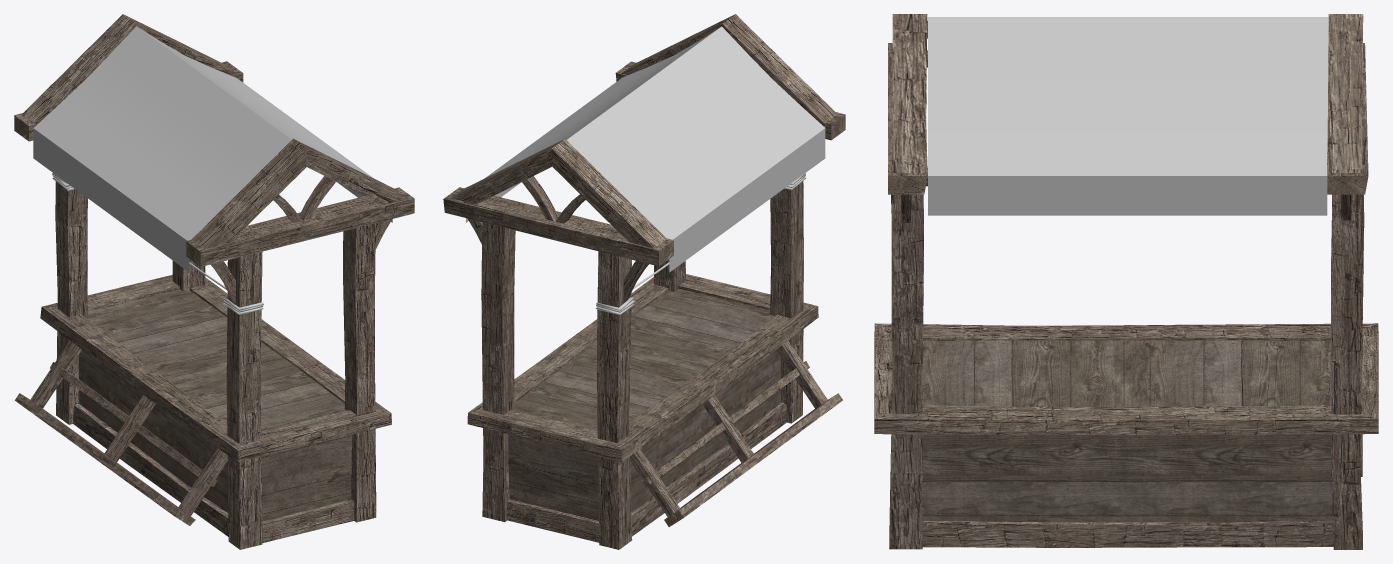
File: mw_type_2_market_stall.FBX
The picture shows the model from 3 angles, left to right: view 1: azimuth 30°, elevation 25°; view 2: azimuth 150°, elevation 25°; view 3: azimuth 270°, elevation 25°; orthographic projection. The views are drawn at different scales.
Visible parts, largest first — view 1: type_2_market_stall, type_2_market_stall_rug, type_2_market_stall_add, type_2_market_stall_rope; view 2: type_2_market_stall, type_2_market_stall_rug, type_2_market_stall_add, type_2_market_stall_rope; view 3: type_2_market_stall, type_2_market_stall_rug.
Part boxes in pixels (<box>): type_2_market_stall: <box>14,14,414,549</box>; type_2_market_stall_rug: <box>33,26,392,271</box>; type_2_market_stall_add: <box>15,340,227,525</box>; type_2_market_stall_rope: <box>52,173,263,314</box>; type_2_market_stall: <box>443,14,845,549</box>; type_2_market_stall_rug: <box>466,26,825,272</box>; type_2_market_stall_add: <box>630,341,842,526</box>; type_2_market_stall_rope: <box>595,173,805,314</box>; type_2_market_stall: <box>874,14,1378,549</box>; type_2_market_stall_rug: <box>928,17,1328,215</box>.
Size of the model in its own units: 272 by 442 by 410.
